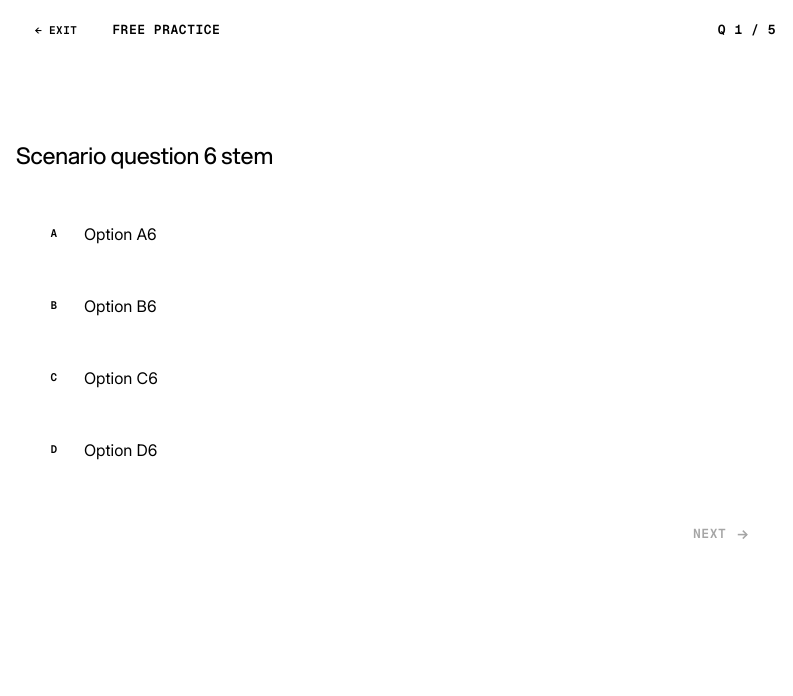
Test: QuizRunner — non-timed (free) mode › shows whyCorrect explanation text after answering
Step 1. Click the radio button labelled "A Option A6" → [120, 234], box [16,203,776,263]
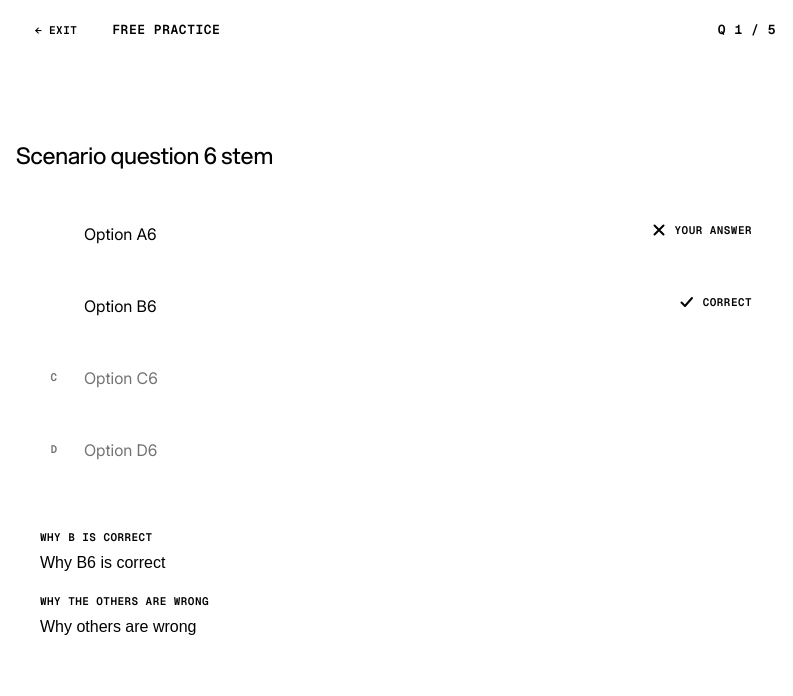
Check: the 1st element with class "why" is shown, box [40,530,165,571]
